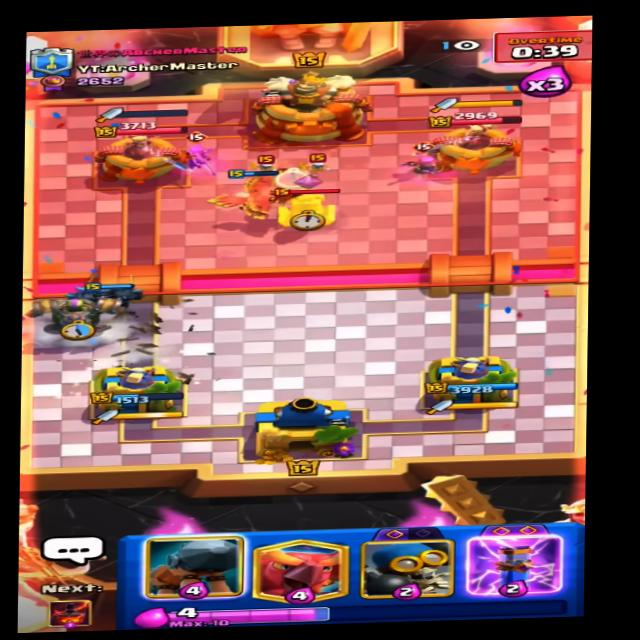Evoarchers: (178, 135, 216, 170), (409, 140, 449, 172)
Skeleton: (304, 151, 339, 174), (245, 152, 281, 171)
Tesla: (270, 185, 342, 235)
